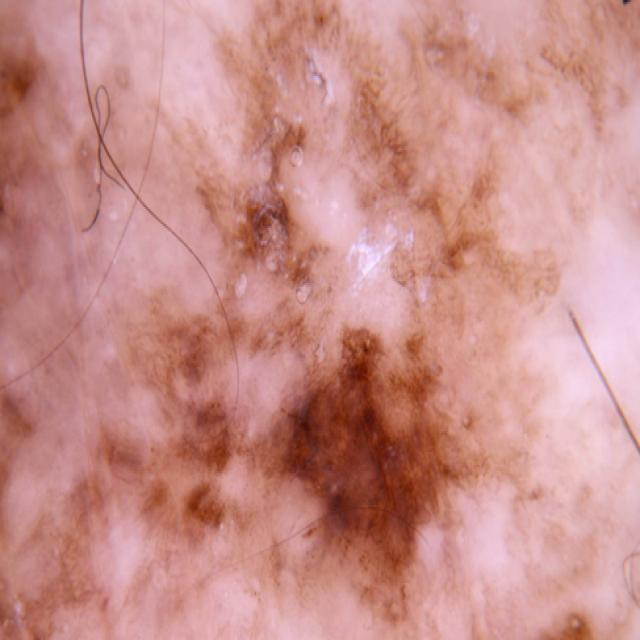Carcinoma: (99, 125, 571, 640)
